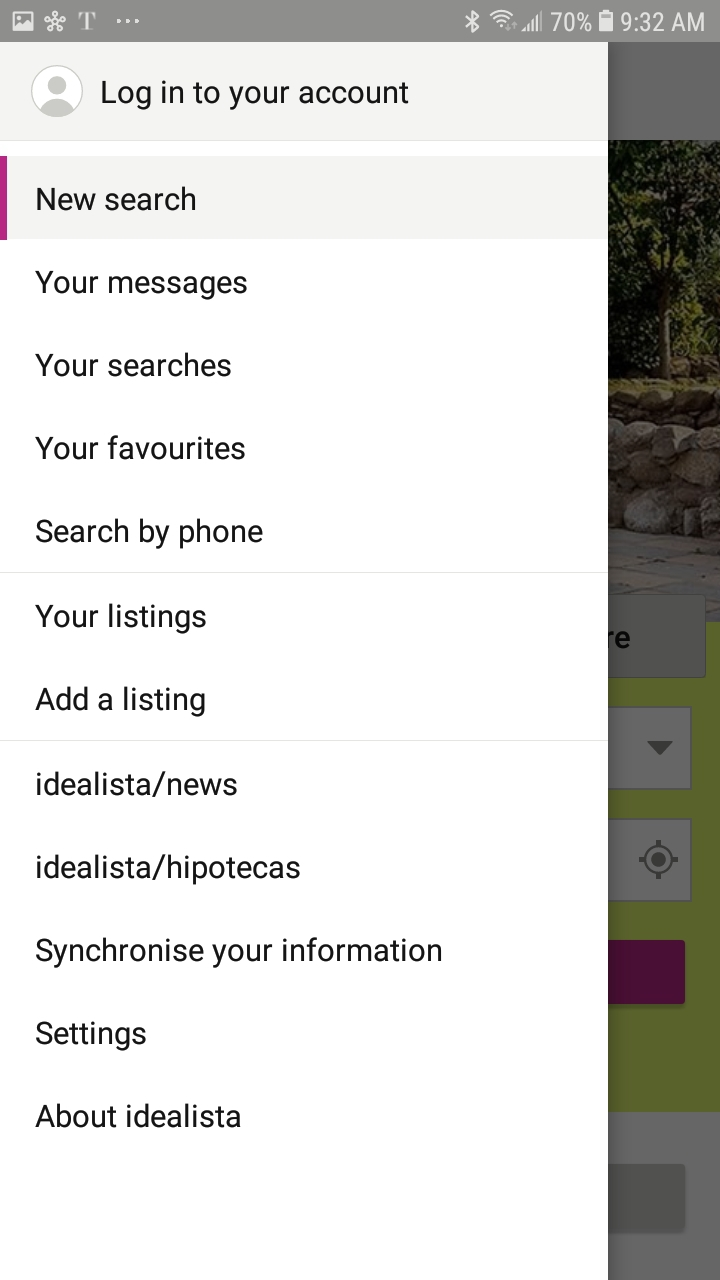Drawer: (1, 43, 608, 1280)
Icon: (31, 65, 84, 118)
Text: (36, 937, 442, 969), (102, 81, 409, 112), (37, 854, 301, 886), (37, 518, 264, 550), (35, 270, 248, 301), (37, 770, 238, 798), (35, 603, 207, 635), (35, 686, 206, 718), (36, 435, 246, 461), (36, 1103, 242, 1129), (35, 352, 232, 378), (38, 186, 197, 212), (36, 1021, 147, 1052)
UpperTaskBar: (1, 1, 720, 43)
